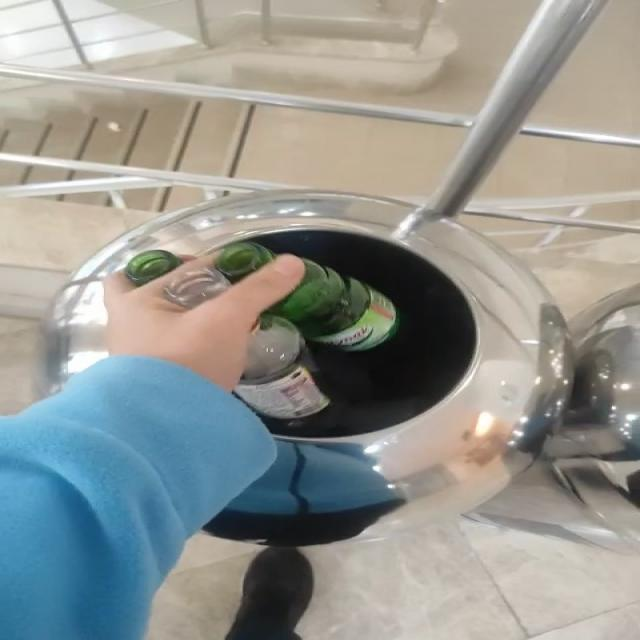glass: (235, 259, 397, 419), (165, 242, 275, 308), (125, 251, 181, 285)
